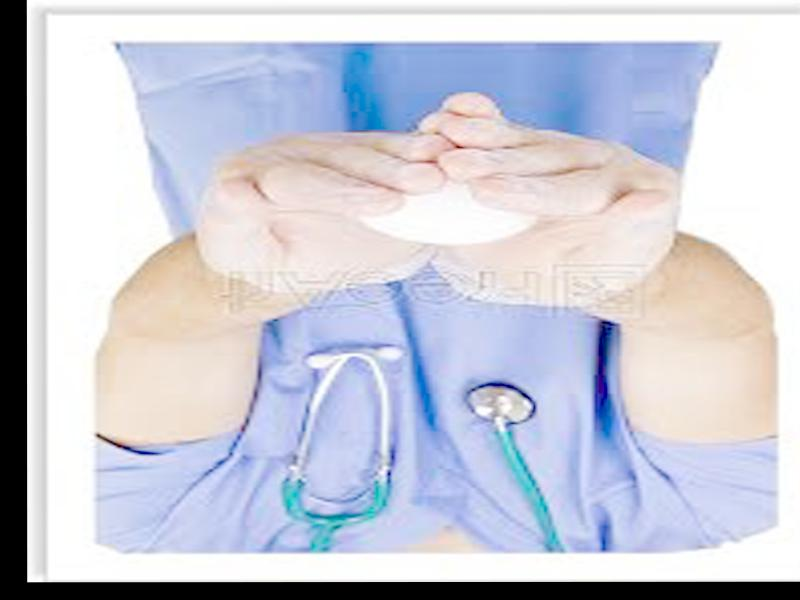Eggs: (357, 176, 531, 245)
